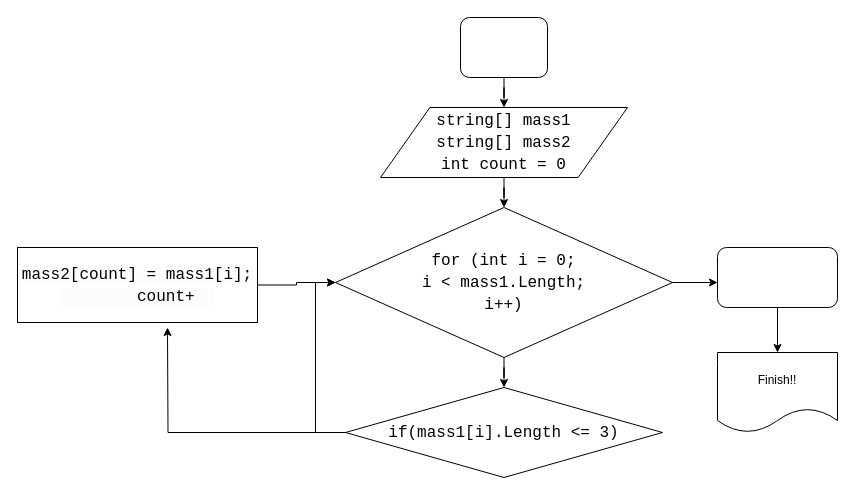
Image size: 855x495. Some labels were removed from this diagram. The shapes that lost their labels are listed below. From the top down, each one's centre as x and y in pixels, then its label:
At (504,47): "void M1".
At (777,277): "PrintArray".
